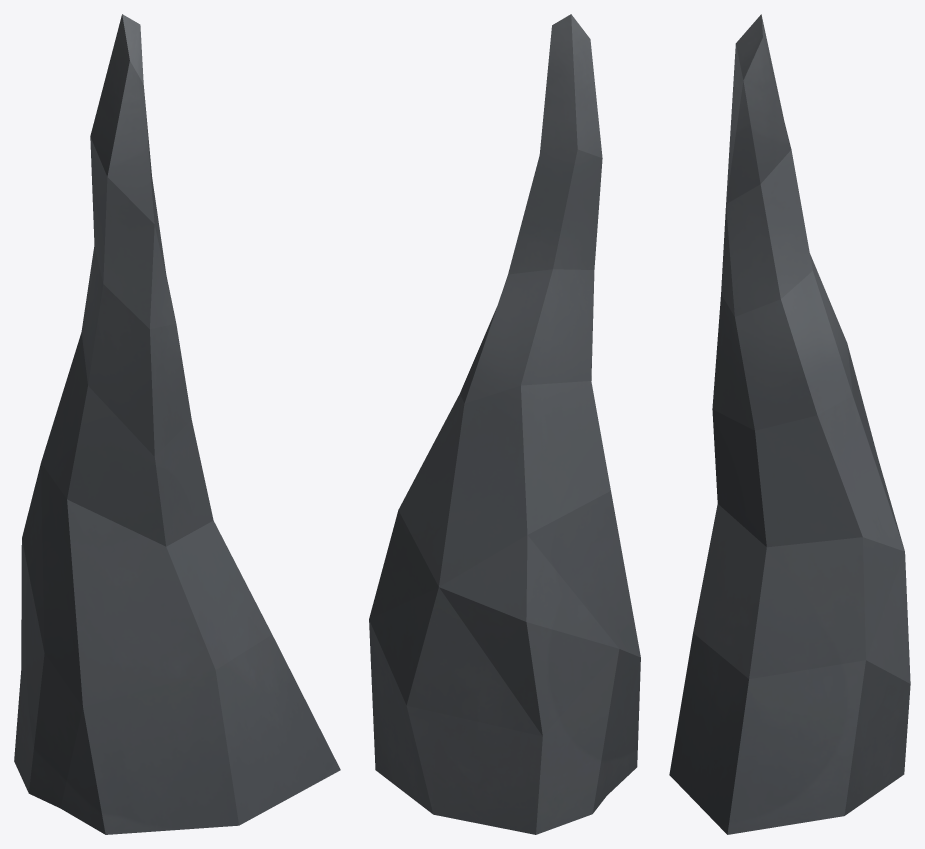
The model's file is Stalagmite_Med.fbx.
3 renders of one model, left to right at view 1: azimuth 30°, elevation 25°; view 2: azimuth 150°, elevation 25°; view 3: azimuth 270°, elevation 25°, orthographic. The views are drawn at different scales.
Visible parts, largest first — view 1: Stalagmite_Med; view 2: Stalagmite_Med; view 3: Stalagmite_Med.
Boxes of the visible parts, box(x1,y1,x2,y2) form: Stalagmite_Med: box(14, 14, 340, 834); Stalagmite_Med: box(369, 14, 640, 834); Stalagmite_Med: box(669, 14, 910, 834).
Bounding box in the file's own units: 67.47 × 193 × 57.81.
